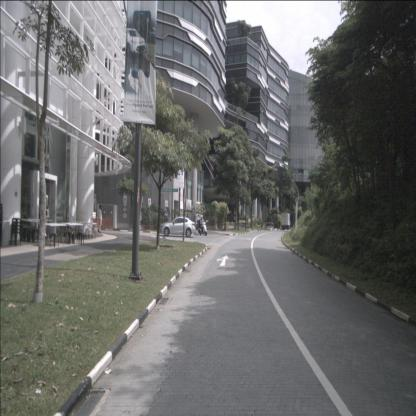human-pedestrian-adult: (98, 204, 102, 233), (186, 212, 190, 230), (174, 213, 178, 228), (193, 214, 196, 230)
vehicle-car: (160, 216, 196, 237)
vehicle-motorcycle: (197, 214, 207, 236)
vehicle-truck: (281, 212, 290, 230)
